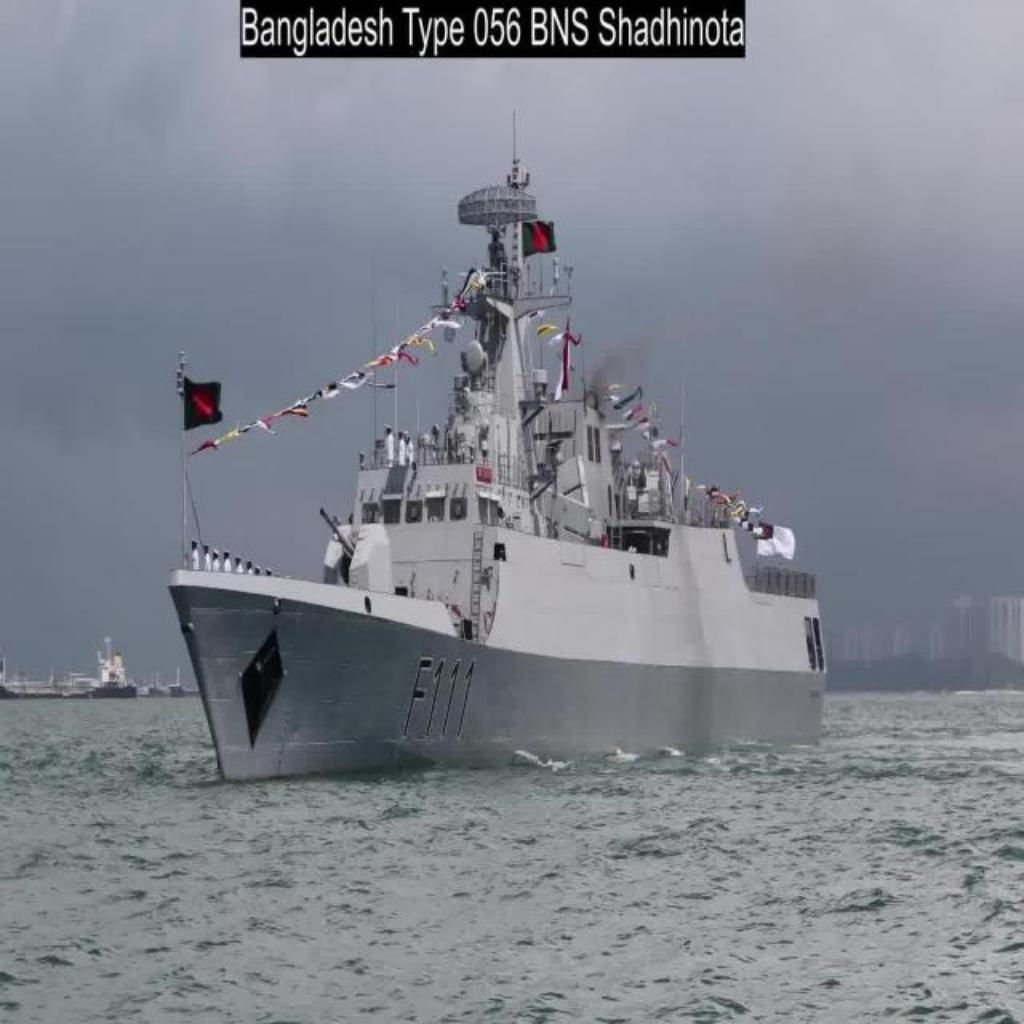Warship: (164, 96, 832, 790)
